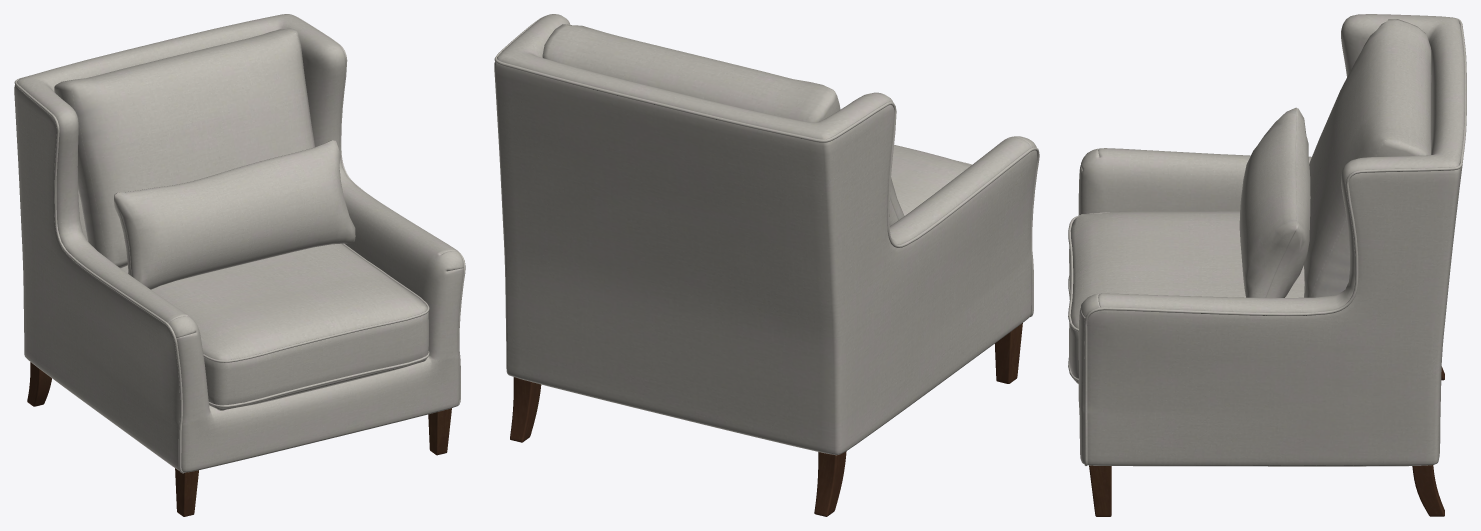
The model's file is sascha_wingback_accent_chair.glb.
3 renders of one model, left to right at view 1: azimuth 30°, elevation 25°; view 2: azimuth 150°, elevation 25°; view 3: azimuth 270°, elevation 25°, orthographic. The views are drawn at different scales.
Parts seen in each view (by area): view 1: RootNode; view 2: RootNode; view 3: RootNode.
Boxes of the visible parts, <box> form: RootNode: <box>14,14,465,516</box>; RootNode: <box>494,14,1039,516</box>; RootNode: <box>1068,14,1466,516</box>.
Bounding box in the file's own units: 0.9817 × 1.06 × 1.04.
1 material, 1 textured.
